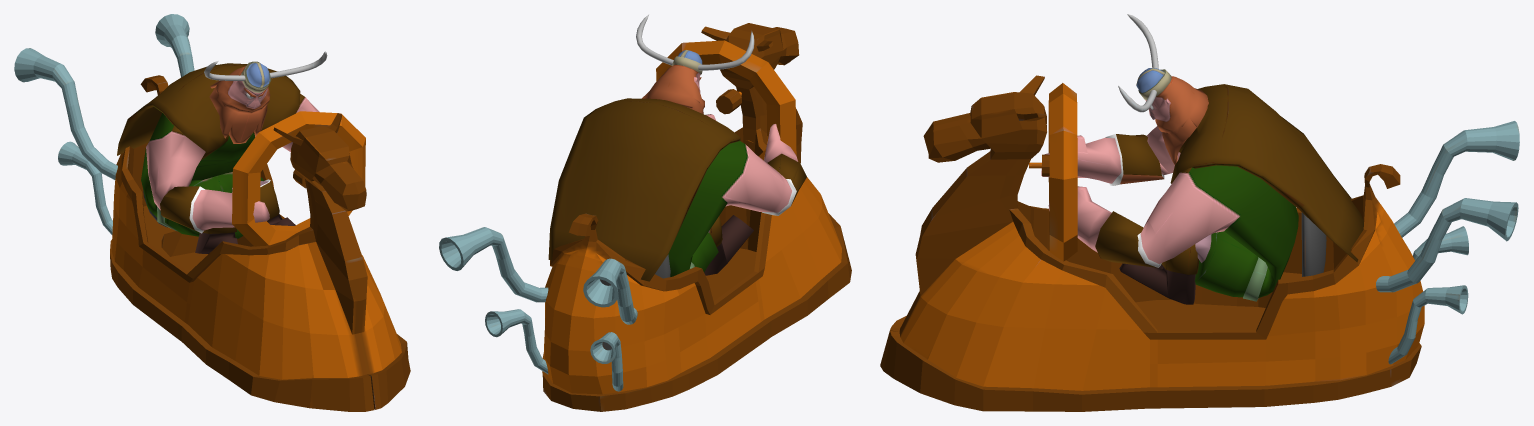
The model's file is vikingoVacile_000436.obj.
3 renders of one model, left to right at view 1: azimuth 30°, elevation 25°; view 2: azimuth 150°, elevation 25°; view 3: azimuth 270°, elevation 25°, orthographic. The views are drawn at different scales.
Visible parts, largest first — view 1: kartVikingo, Vikingo; view 2: kartVikingo, Vikingo; view 3: kartVikingo, Vikingo.
Part boxes in pixels (x1,y1,x2,y2): kartVikingo: (14, 14, 410, 411); Vikingo: (117, 51, 327, 254); kartVikingo: (439, 23, 851, 411); Vikingo: (548, 14, 806, 281); kartVikingo: (880, 75, 1519, 411); Vikingo: (1041, 14, 1363, 304).
Bounding box in the file's own units: 4.12 × 5.81 × 10.31.
